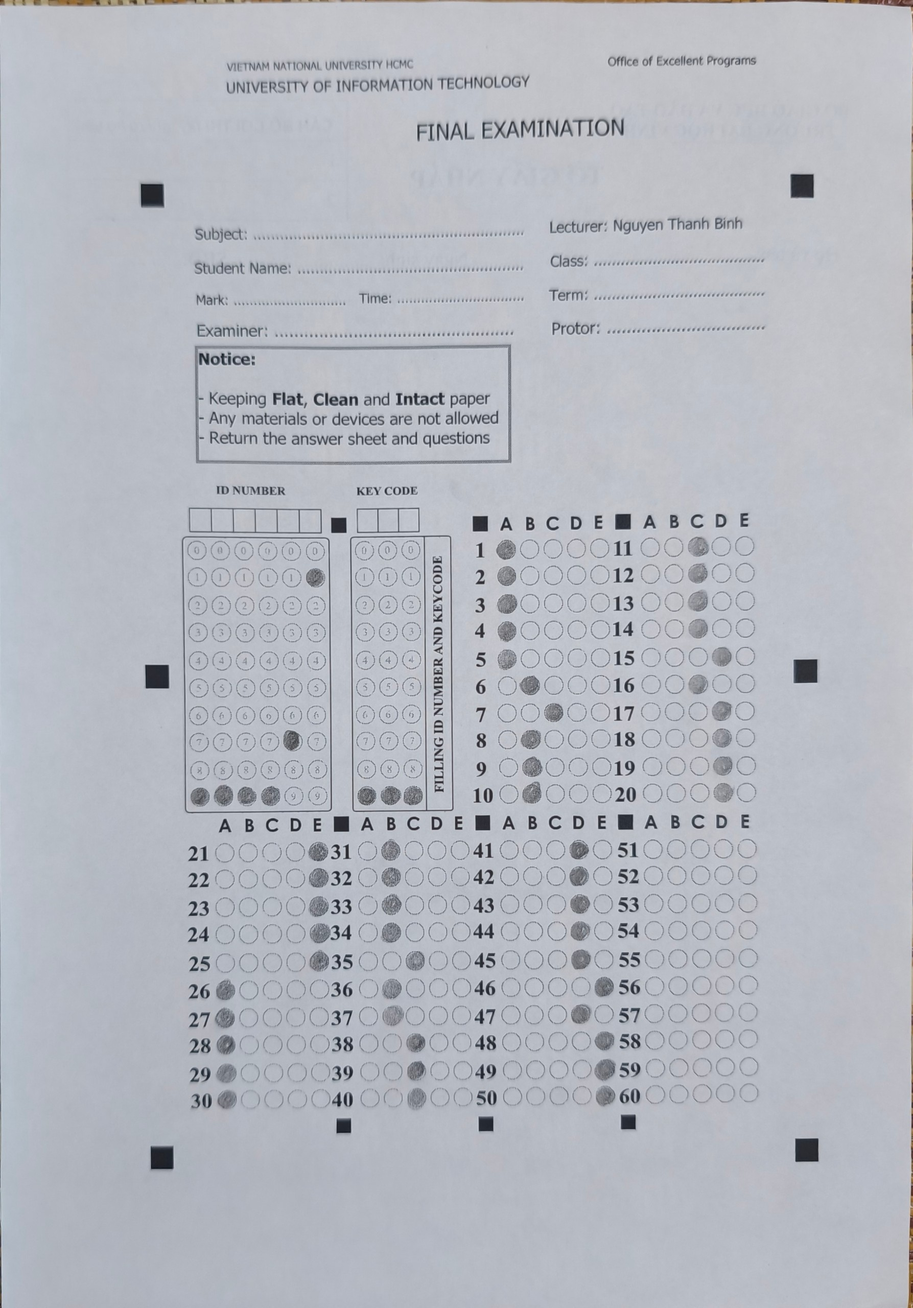info_region: (183, 536, 427, 813)
paper_region: (150, 191, 810, 1158)
q_1_20: (481, 520, 762, 821)
q_21_60: (183, 823, 762, 1128)
